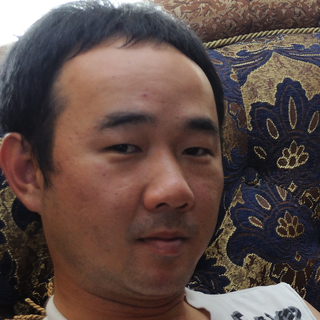eye: (95, 138, 146, 162), (174, 140, 214, 164)
